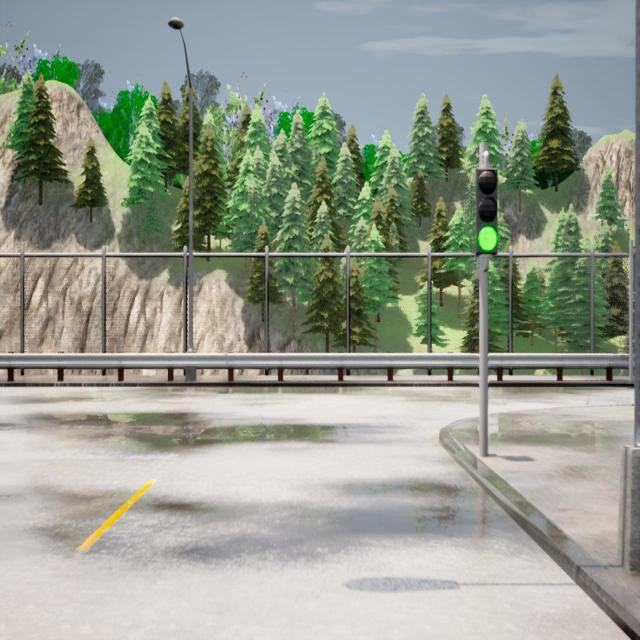traffic_light: (476, 168, 498, 256)
